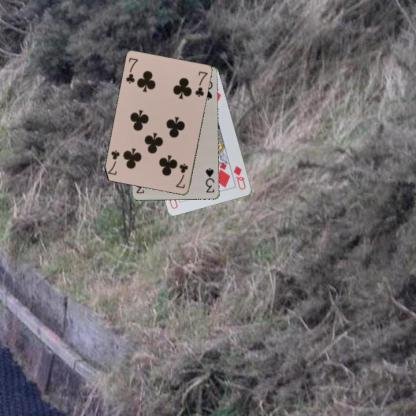3s: (203, 165, 216, 194)
7c: (174, 161, 190, 190), (124, 55, 139, 85)
Qd: (231, 163, 247, 191)
